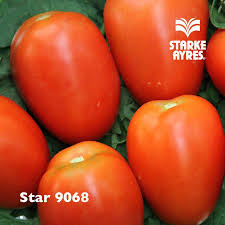tomato: (17, 7, 115, 129), (136, 104, 220, 216), (46, 143, 149, 225)
